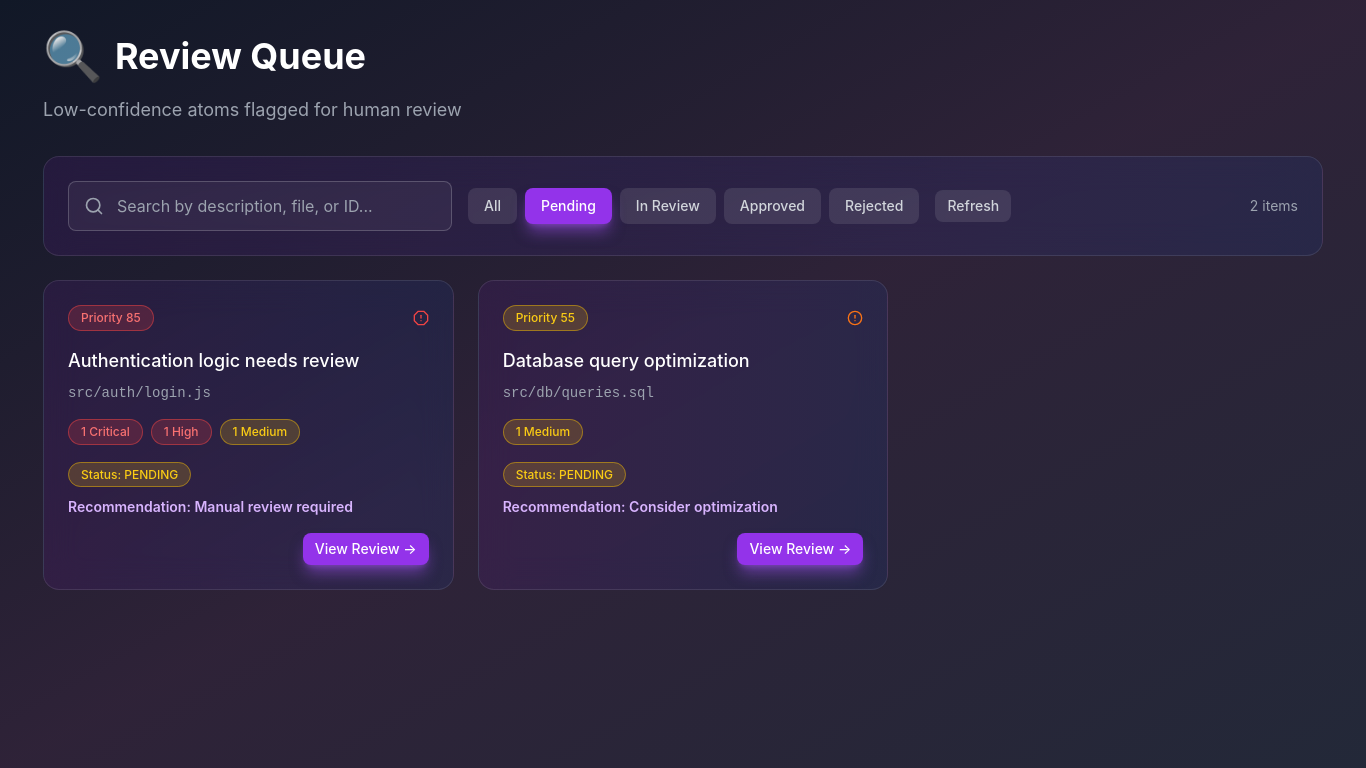
Test: ReviewQueue Integration Tests › should close modal with X button
Expected: the heading "Authentication logic needs review" is shown, [68,350,359,371]
Note: Open modal
Click the button "View Review →" below "Manual review required" at [366, 549], box [303,533,429,565]
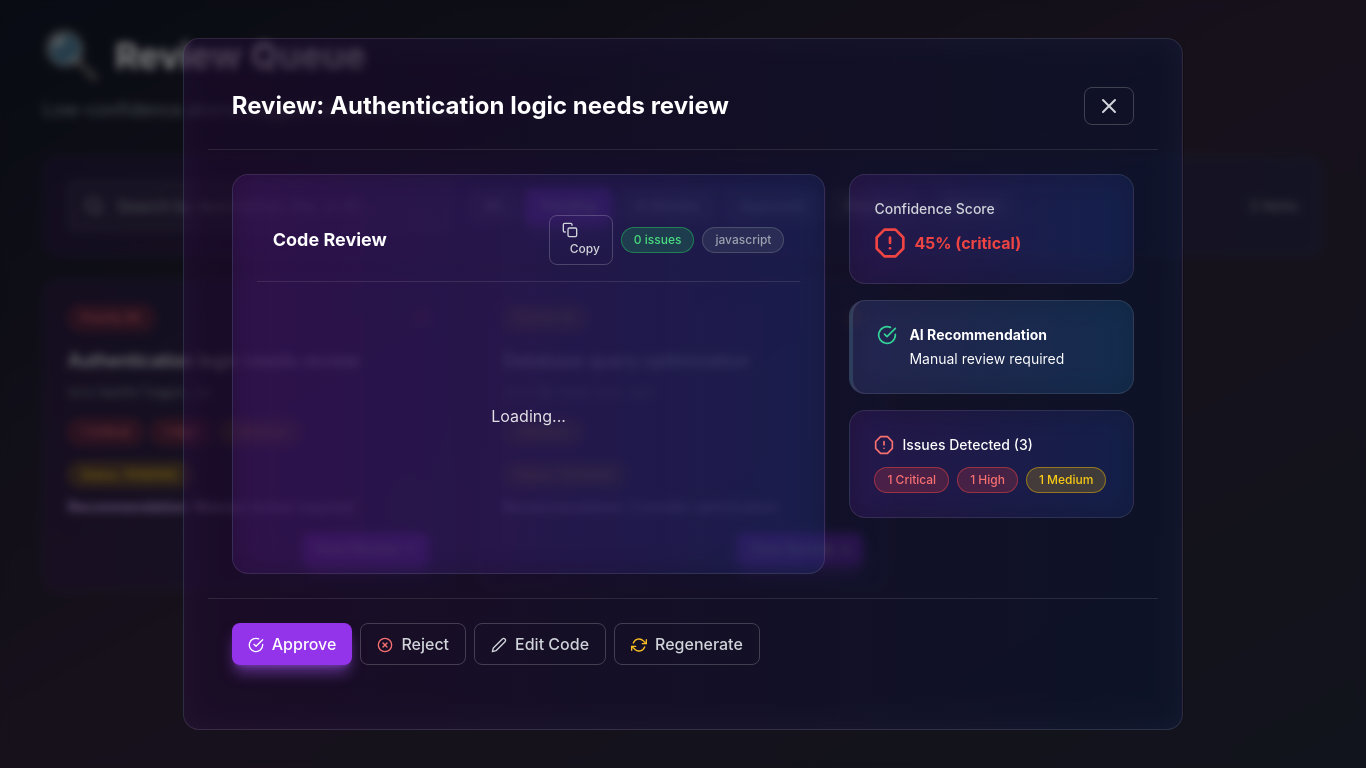
Result: the heading "Review: Authentication logic needs review" is shown at [232,90,729,122]
Note: Close modal with X button
Click the button named "close modal" at [1109, 106], box [1084,87,1134,125]
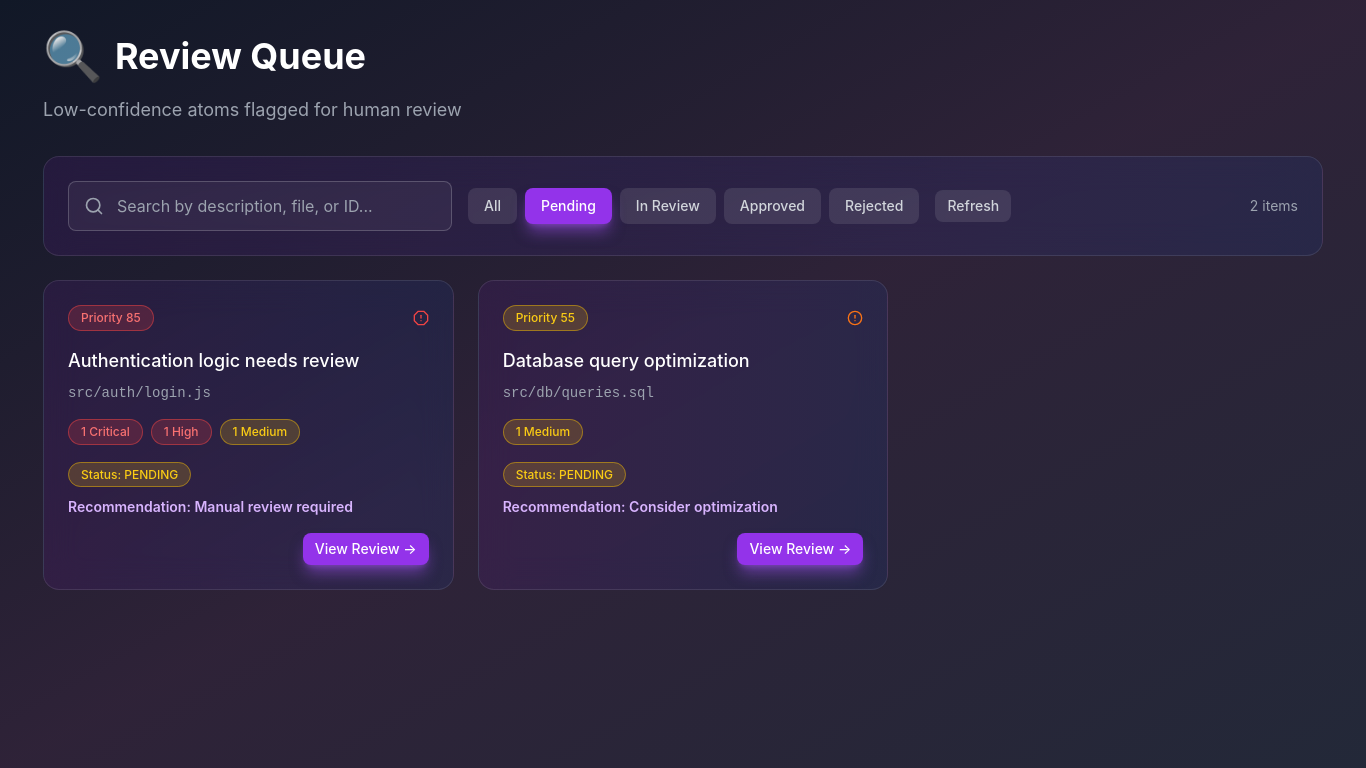
Result: the heading "Review: Authentication logic needs review" is gone
